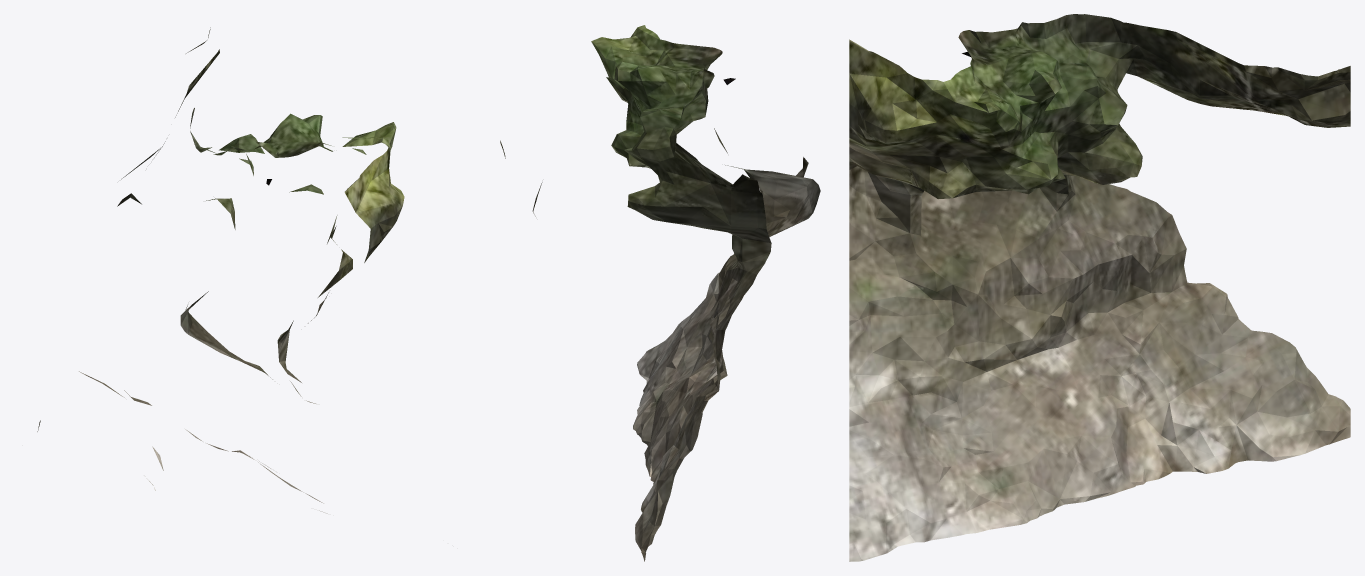
3 views of the same model, side by side, from view 1: azimuth 30°, elevation 25°; view 2: azimuth 150°, elevation 25°; view 3: azimuth 270°, elevation 25° (orthographic). The views are drawn at different scales.
Size of the model in its own units: 1.8 by 2.95 by 2.95.
Materials: 3 (3 with a texture image).
